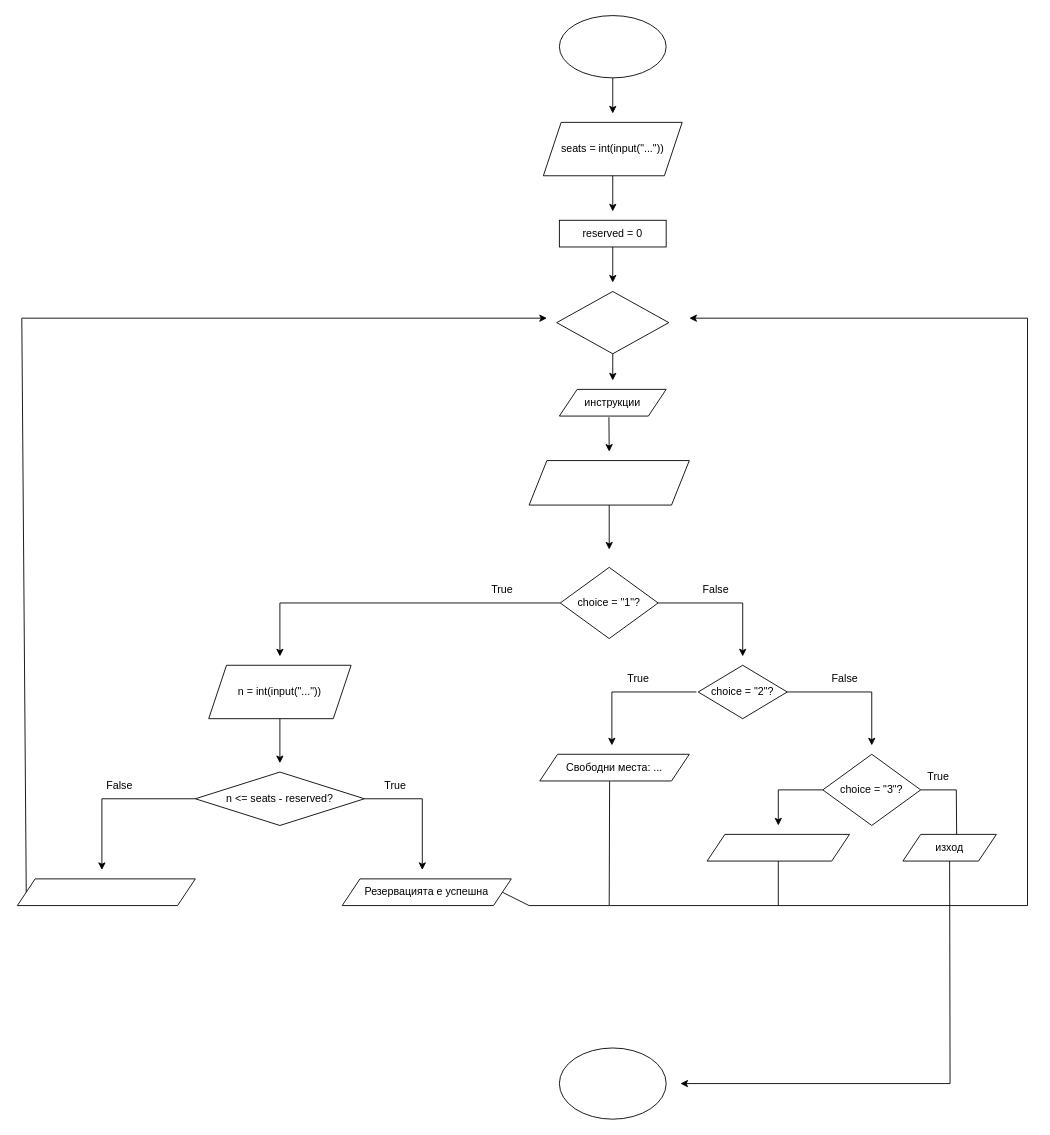
The diagram is 1050 pixels wide and 1135 high, and some of its shapes have lost their labels. The shapes that lost their labels are listed below. From the top down, each one's box as (x1, y1, x2, y2) in pixels, then its label:
(558, 15, 666, 78): Начало
(556, 291, 669, 354): while True:
(528, 460, 689, 505): choice = input("...")
(706, 833, 850, 861): Невалиден избор
(16, 878, 195, 906): Няма достатъчно места
(558, 1047, 666, 1119): Край
